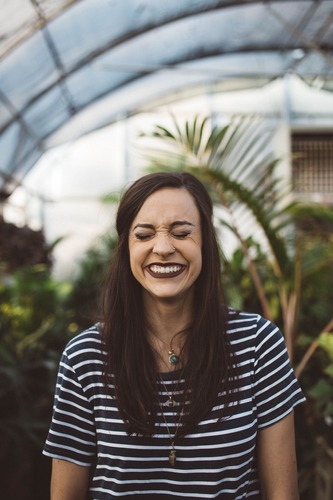without_mask: (122, 197, 207, 299)
